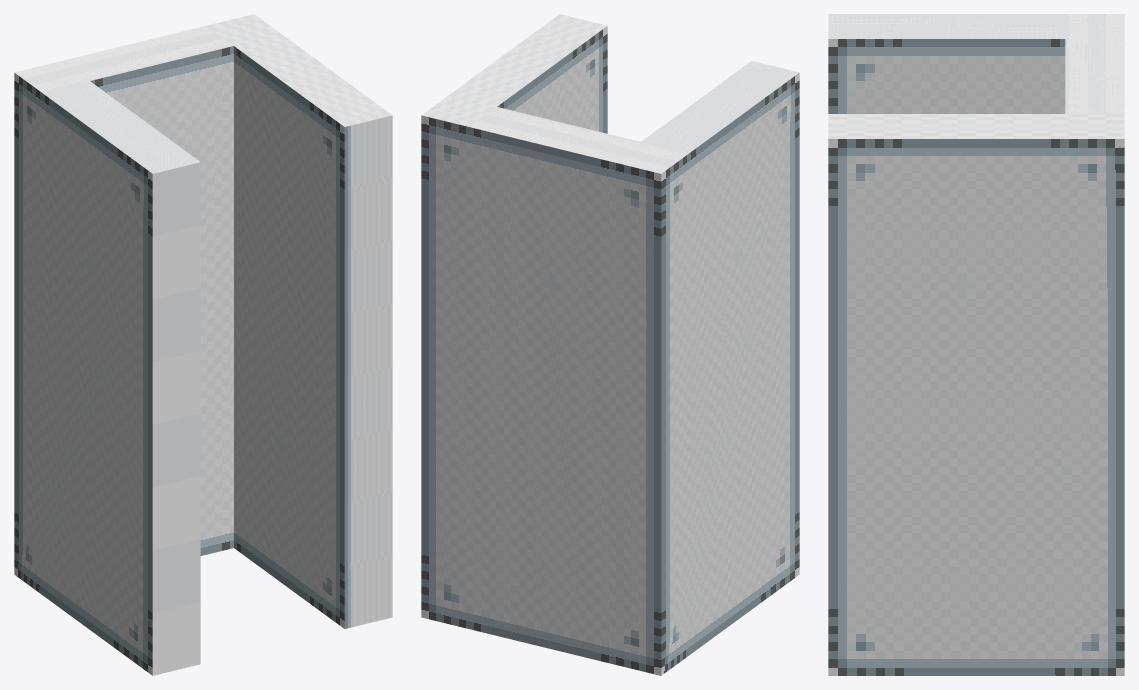
The picture shows the model from 3 angles, left to right: view 1: azimuth 30°, elevation 25°; view 2: azimuth 150°, elevation 25°; view 3: azimuth 270°, elevation 25°; orthographic projection. The views are drawn at different scales.
Visible parts, largest first — view 1: Curve; view 2: Curve; view 3: Curve.
Part boxes in pixels (x1,y1,x2,y2): Curve: (14, 14, 392, 675); Curve: (421, 14, 799, 675); Curve: (828, 14, 1124, 675).
Bounding box in the file's own units: 2 × 4 × 2.
1 material, 1 textured.
